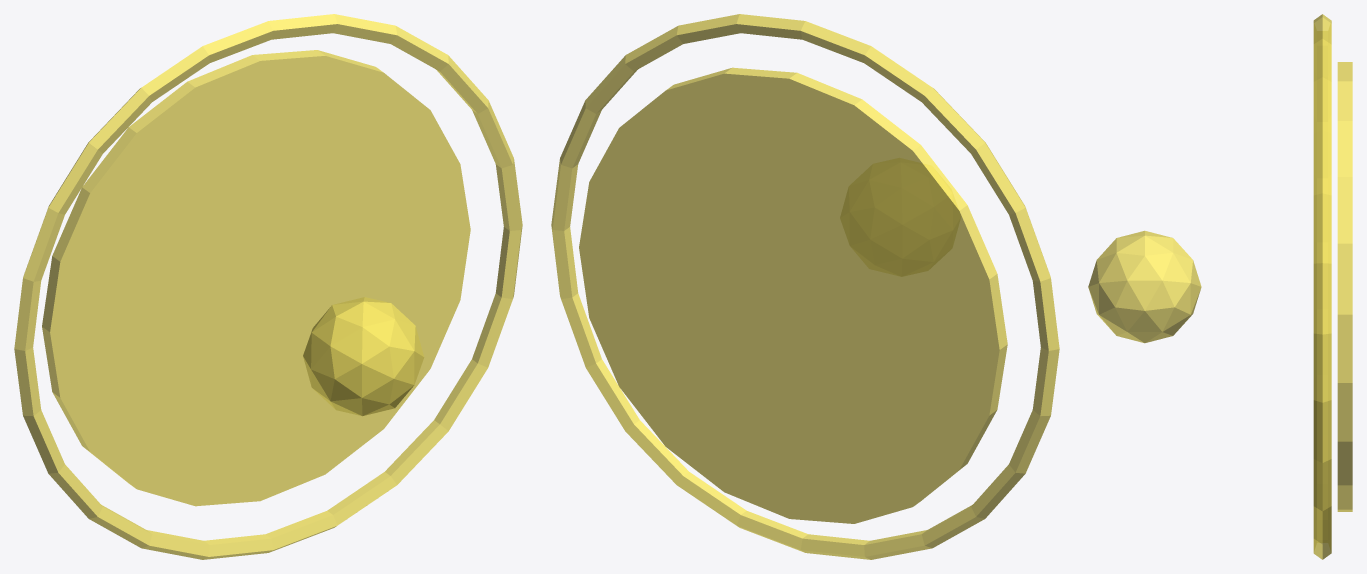
File: companion_upgrade_pedestal.glb
3 renders of one model, left to right at view 1: azimuth 30°, elevation 25°; view 2: azimuth 150°, elevation 25°; view 3: azimuth 270°, elevation 25°, orthographic. The views are drawn at different scales.
Visible parts, largest first — view 1: summon_disc, summon_ring, summon_core; view 2: summon_disc, summon_ring; view 3: summon_ring, summon_core, summon_disc.
Part boxes in pixels (x1,y1,x2,y2): summon_disc: (42, 50, 470, 506); summon_ring: (14, 14, 522, 559); summon_core: (303, 297, 424, 416); summon_disc: (579, 67, 1007, 523); summon_ring: (551, 14, 1059, 559); summon_ring: (1313, 14, 1331, 559); summon_core: (1088, 230, 1201, 343); summon_disc: (1337, 62, 1352, 511).
Bounding box in the file's own units: 1.45 × 1.45 × 0.7.
